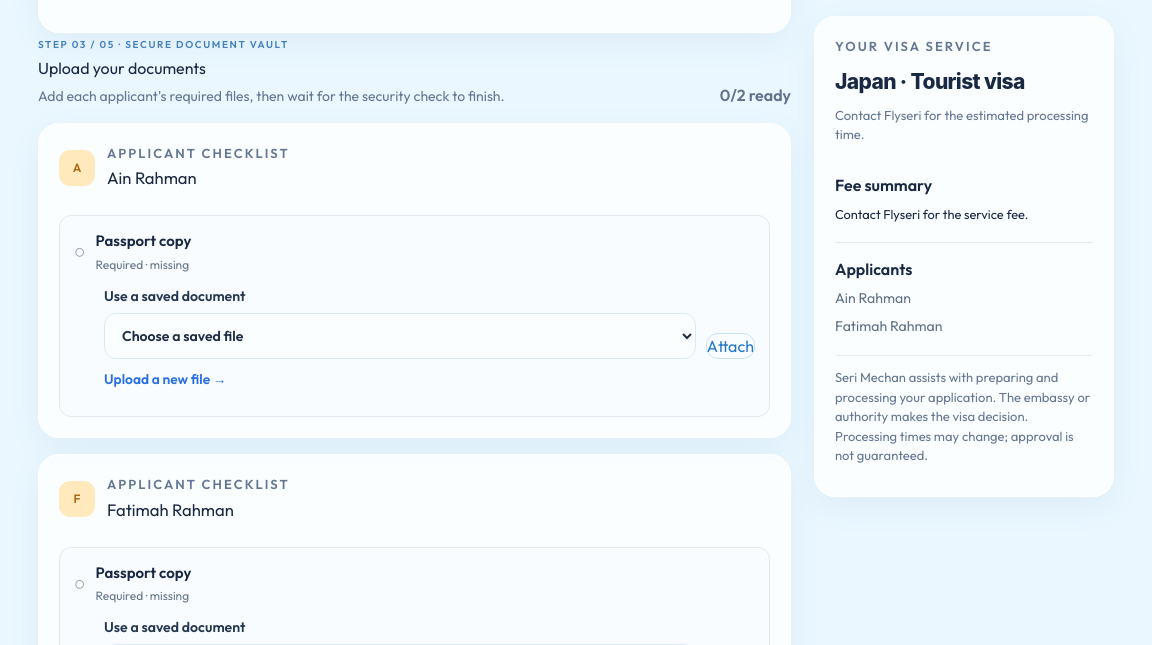
Test: document vault and visa planning › renders family checklists, reuses the exact version, and does not count an unscanned file as complete
The image size is (1152, 645).
(page scrolled)
Expected: the heading "Ain Rahman" is shown, 107,168 -> 197,188
Expected: the heading "Fatimah Rahman" is shown, 107,499 -> 234,520
Select "Passport · expires May 14, 2031" in the dropdown named "Document for Passport copy Ain" at {"x": 400, "y": 336}, box 104,313 -> 696,359
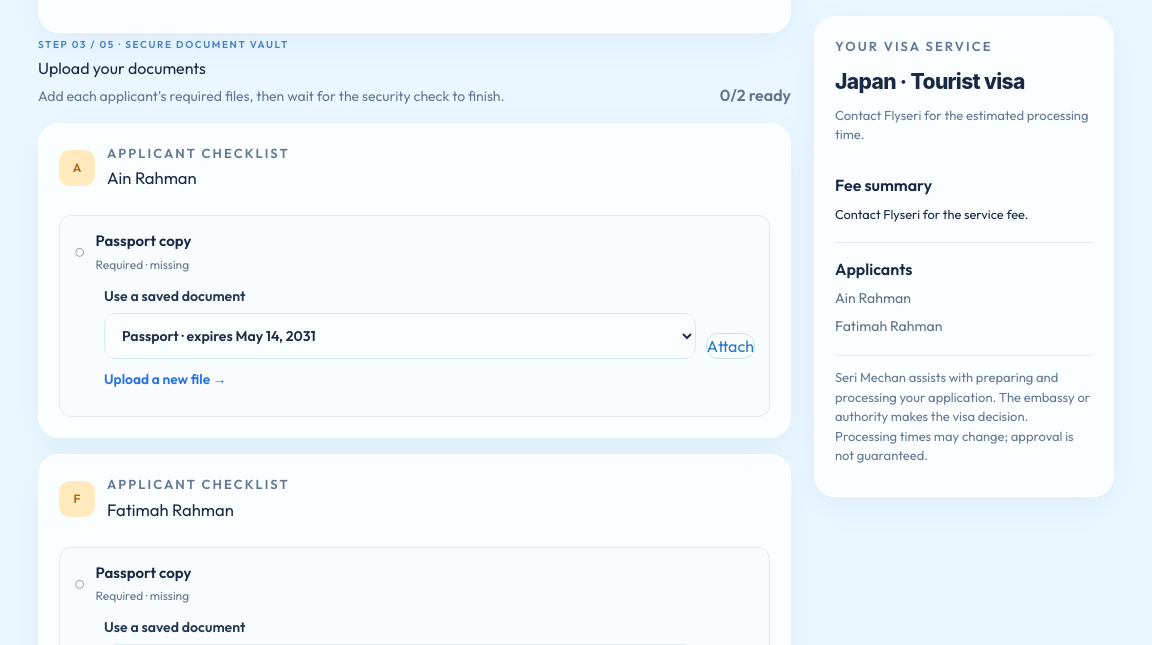
Click the 1st button "Attach".
click(730, 346)  # box 706,333 -> 755,359
(page scrolled)
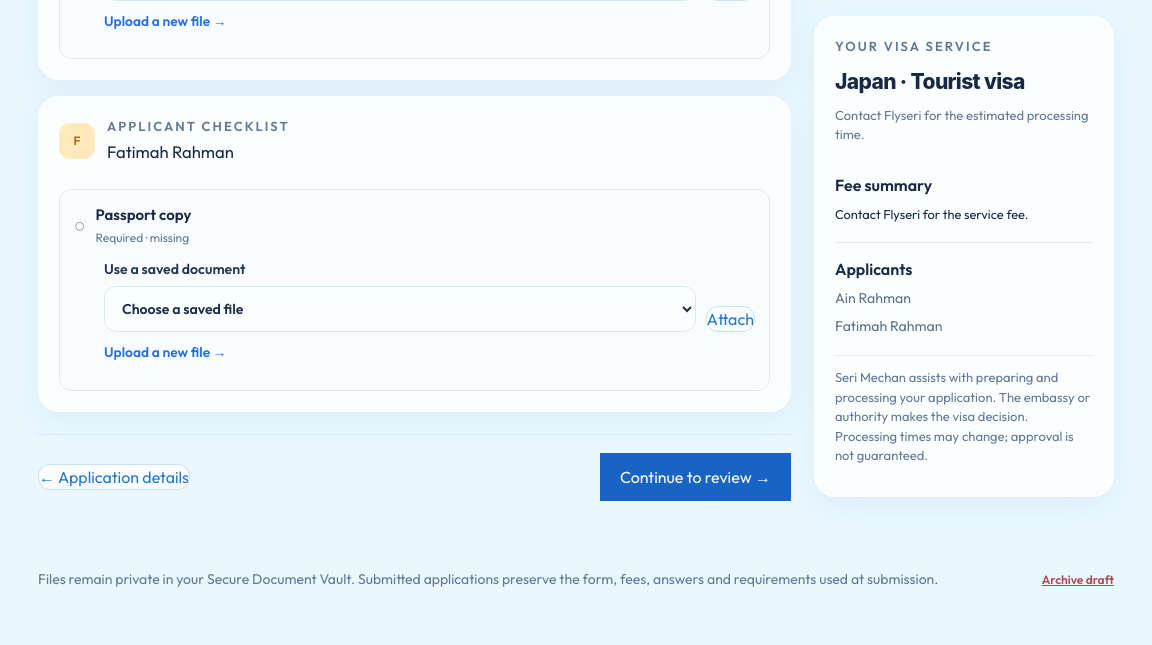
Click the button "Continue to review →".
click(695, 477)  # box 600,453 -> 791,501
(page scrolled)
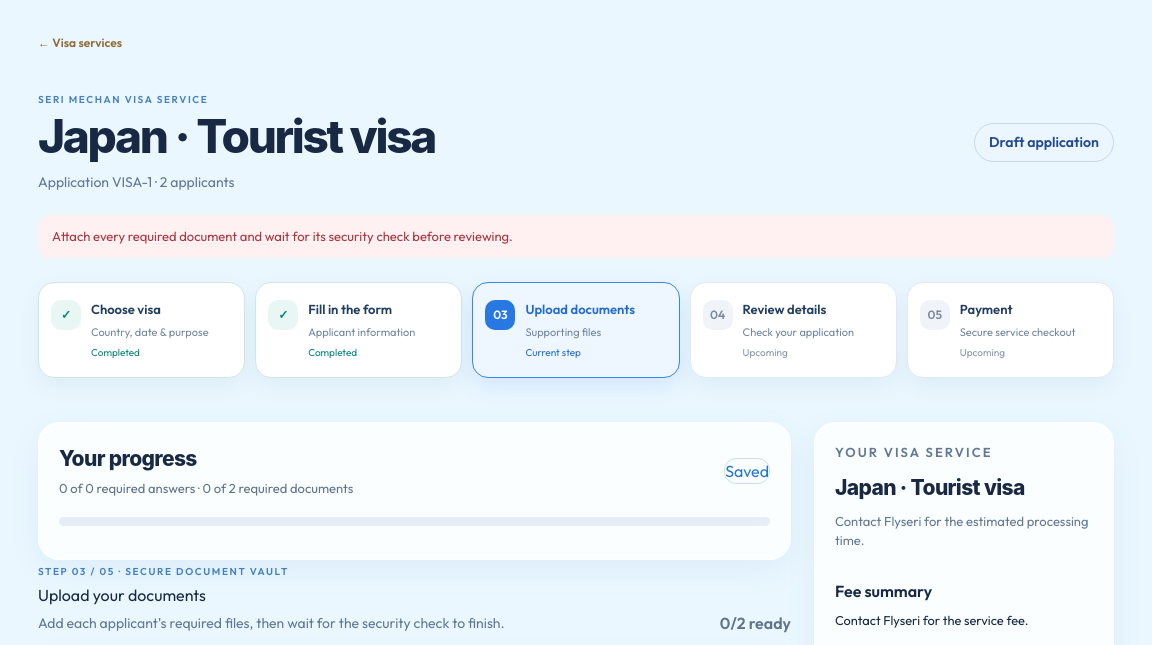
Expected: the message shows "Attach every required document and wait for its security check", 52,228 -> 513,244
